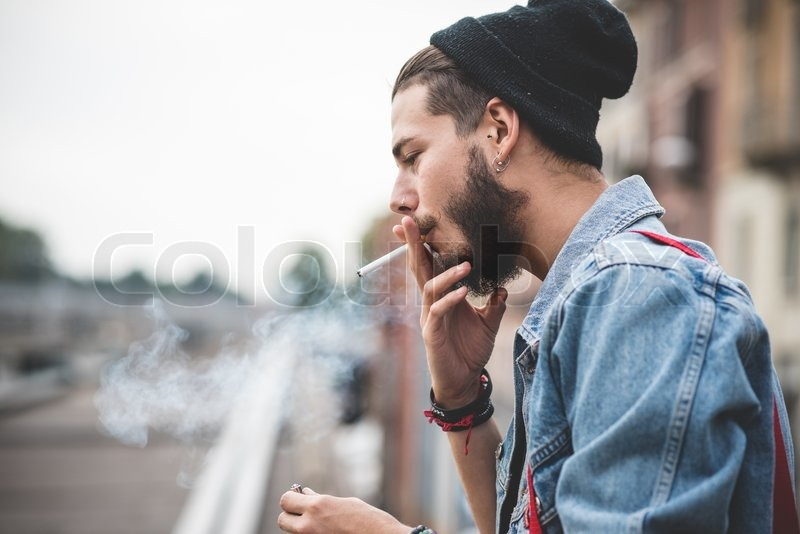cigarette: (351, 241, 440, 280)
